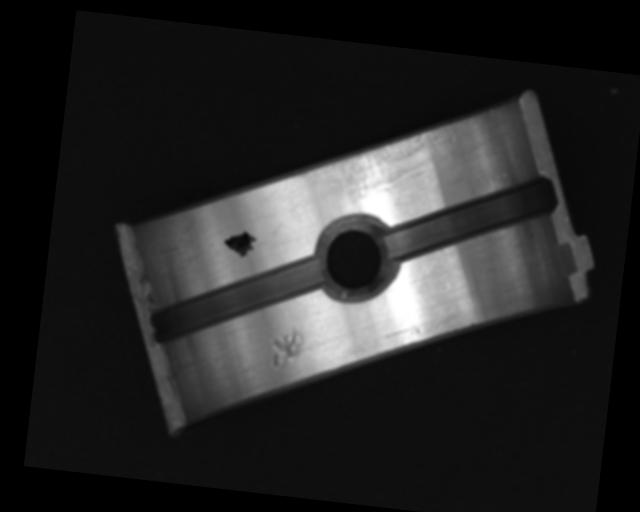blot: (221, 228, 258, 261)
bruise: (266, 322, 306, 371)
gap: (383, 160, 562, 283), (149, 240, 325, 361)
hole: (316, 209, 395, 307)
scratch: (315, 108, 457, 216)
